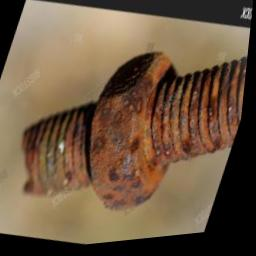Corroded-Nut-and-Bolt: (27, 55, 249, 215)
